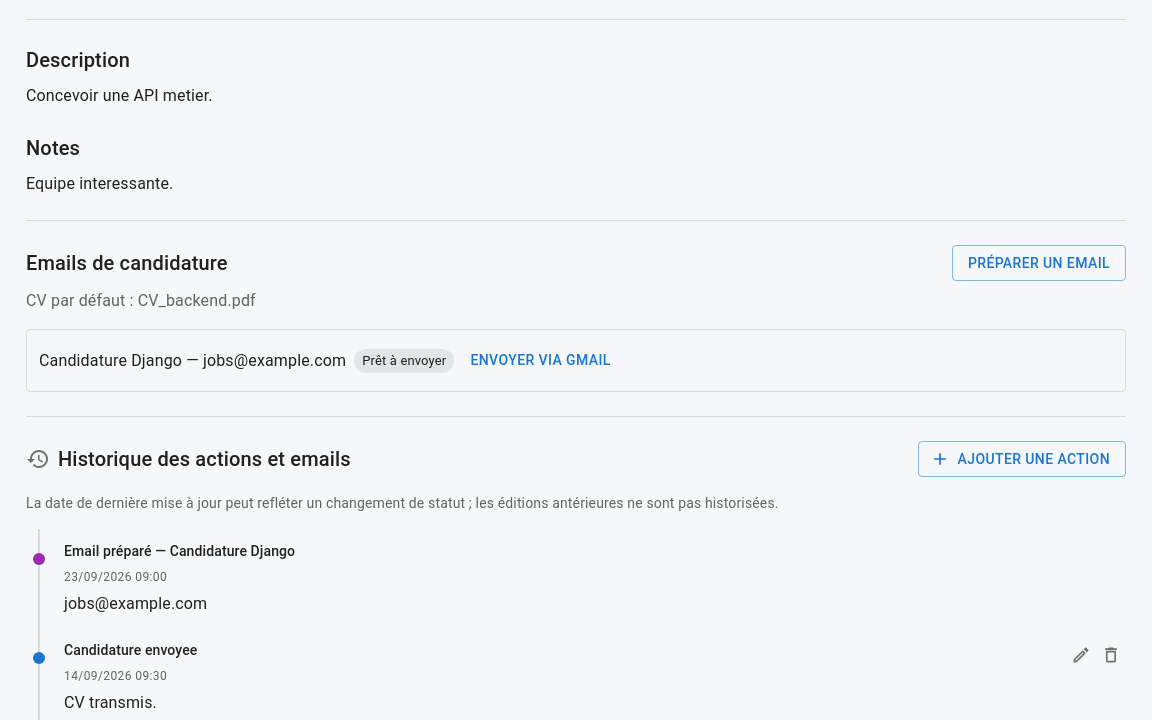
Test case: confirms actual send once and refreshes the timeline
(page scrolled)
Click the button with aria-label "Envoyer l’email Candidature Django" at (541, 361), box top-left (462, 342), bottom-right (619, 379)
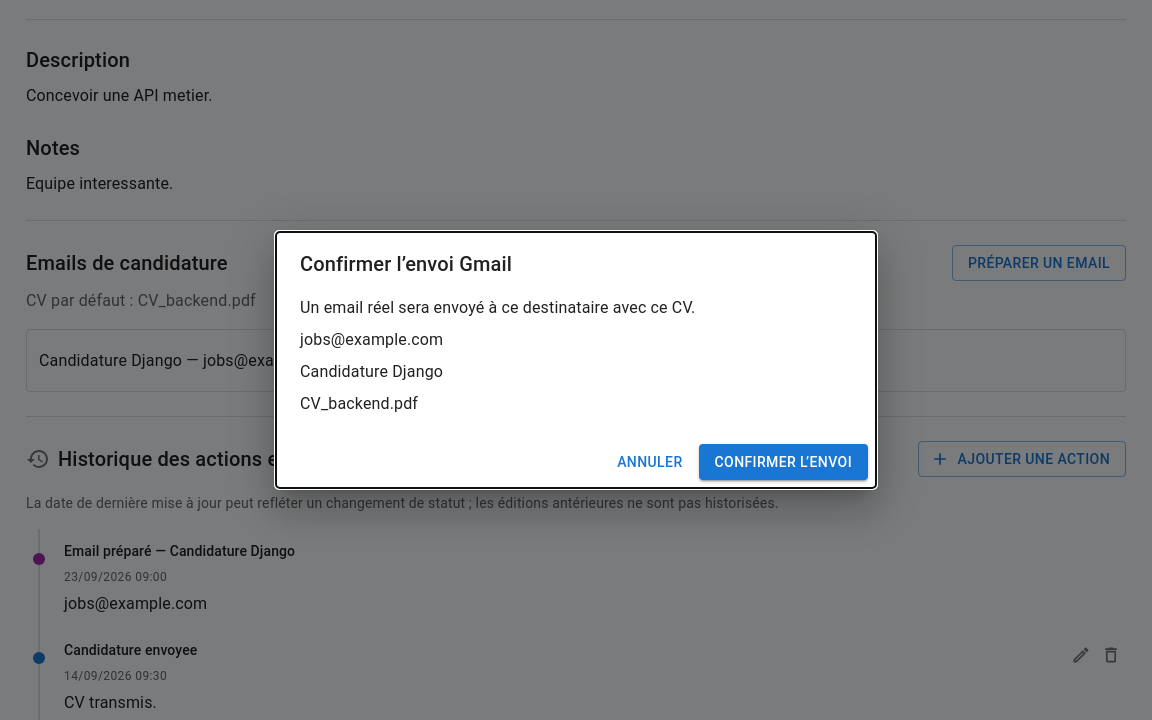
Click the button "Confirmer l’envoi" at (783, 462), box top-left (698, 444), bottom-right (868, 480)
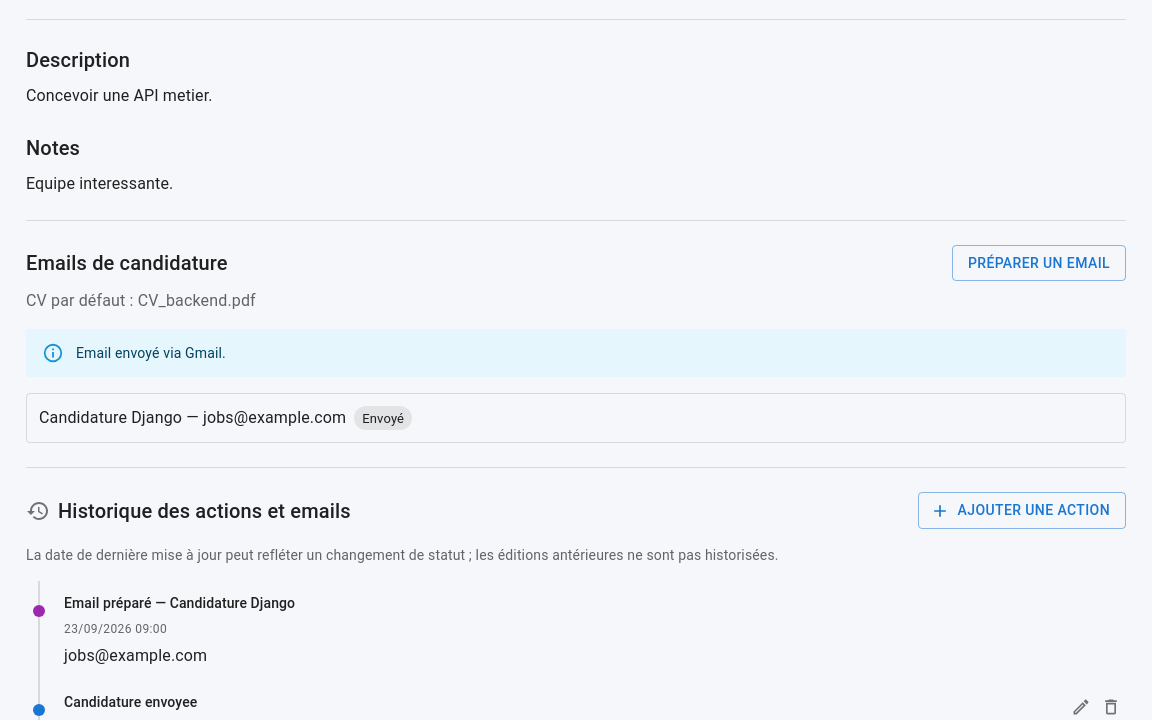
Expected: the text "Envoyé" is shown, top-left (362, 411), bottom-right (404, 426)
